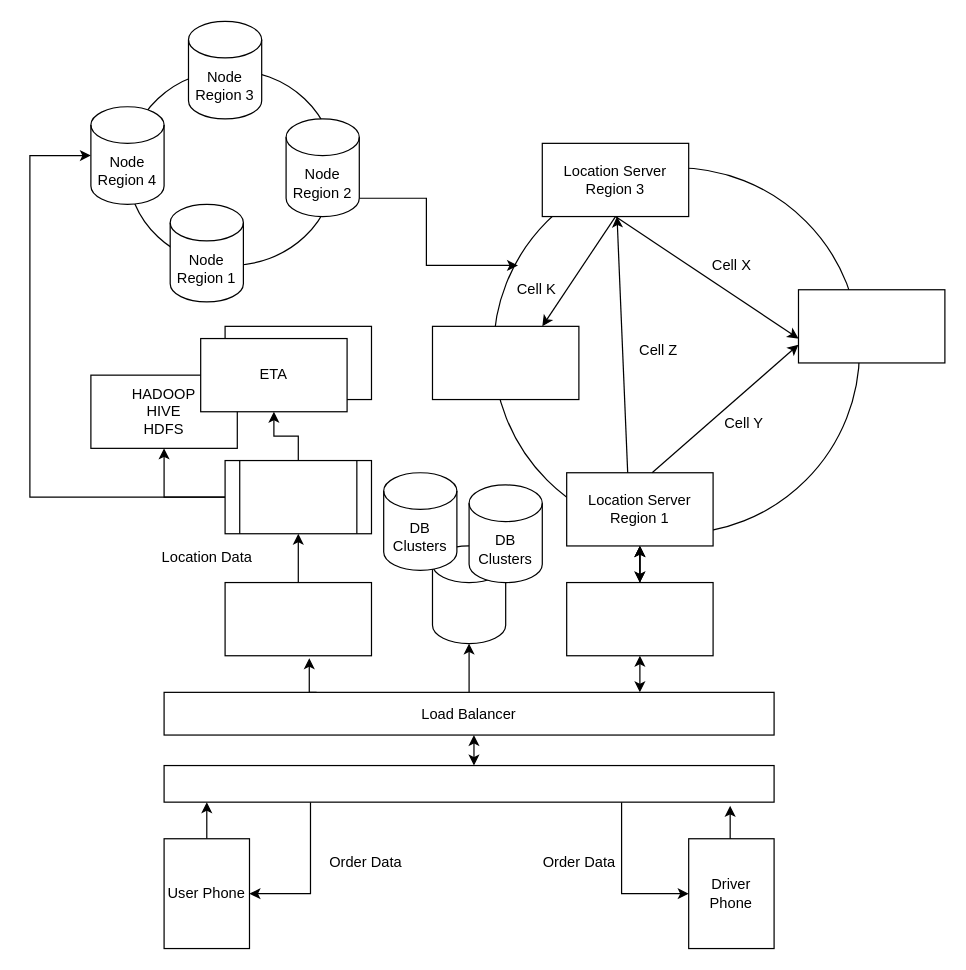
This 966x970 diagram has some shape labels left out. The centre of each missing label's shape, as x and y in pixels:
Kafka: (297,496)
Kafka Rest API: (297,618)
Location Server Region 2: (871,326)
Location Server Region 4: (505,362)
RDBMS: (468,594)
Web Application Firewall: (468,783)
Web Socket: (639,618)
